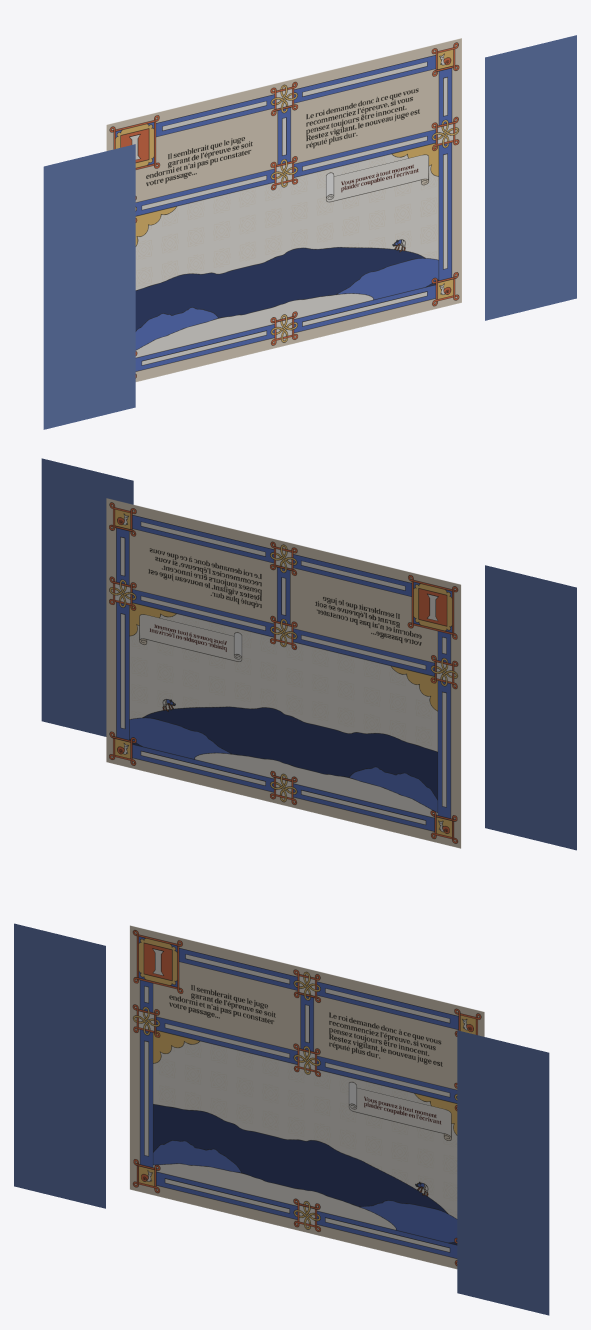
Rendered from transition1.glb.
3 views of the same model, one above another, from view 1: azimuth 30°, elevation 25°; view 2: azimuth 150°, elevation 25°; view 3: azimuth 330°, elevation 25° (orthographic).
Parts seen in each view (by area): view 1: transition1, volet2, volet1; view 2: transition1, volet2, volet1; view 3: transition1, volet1, volet2.
Part boxes in pixels (left/top/right/bottom): transition1: left=106, top=38, right=461, bottom=381; volet2: left=43, top=144, right=135, bottom=429; volet1: left=485, top=35, right=576, bottom=320; transition1: left=106, top=498, right=460, bottom=848; volet2: left=485, top=565, right=576, bottom=850; volet1: left=41, top=458, right=133, bottom=736; transition1: left=130, top=925, right=484, bottom=1269; volet1: left=457, top=1030, right=549, bottom=1315; volet2: left=14, top=923, right=105, bottom=1208.
Size of what is drawn, in the model's own units: 2.12 by 1 by 0.2002.
Materials: 3 (1 with a texture image).
